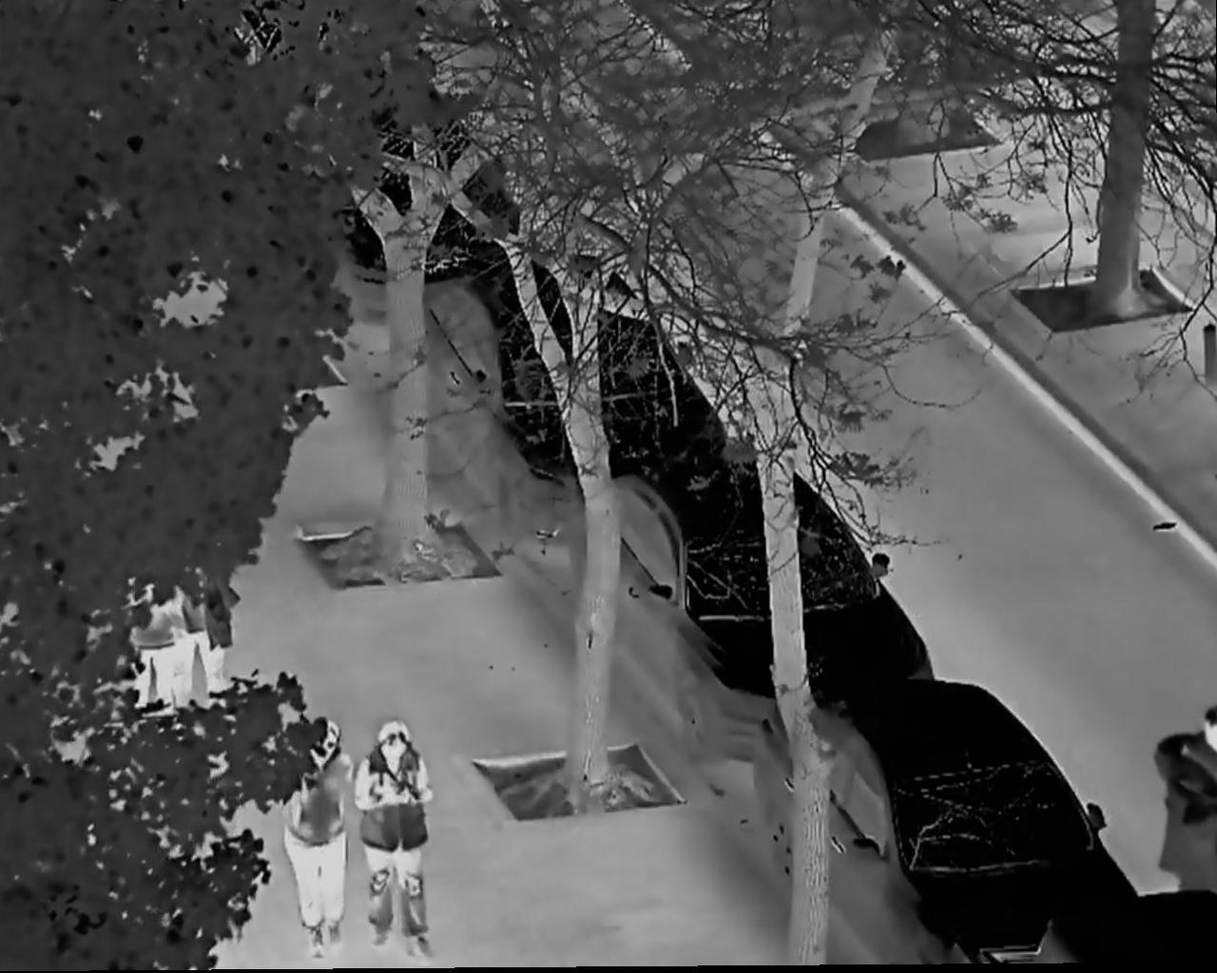person: (357, 723, 445, 963), (285, 725, 351, 950), (172, 539, 238, 735), (119, 530, 178, 743)
